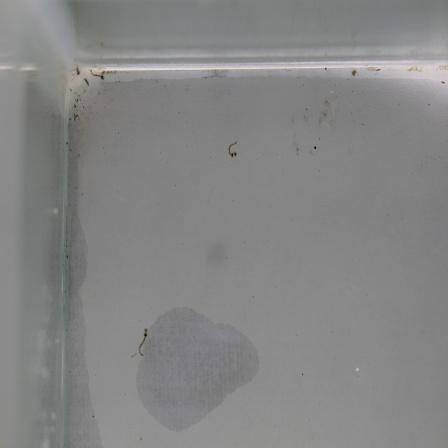Jentik-Nyamuk: (132, 325, 151, 362), (223, 133, 241, 162), (91, 67, 106, 87)
